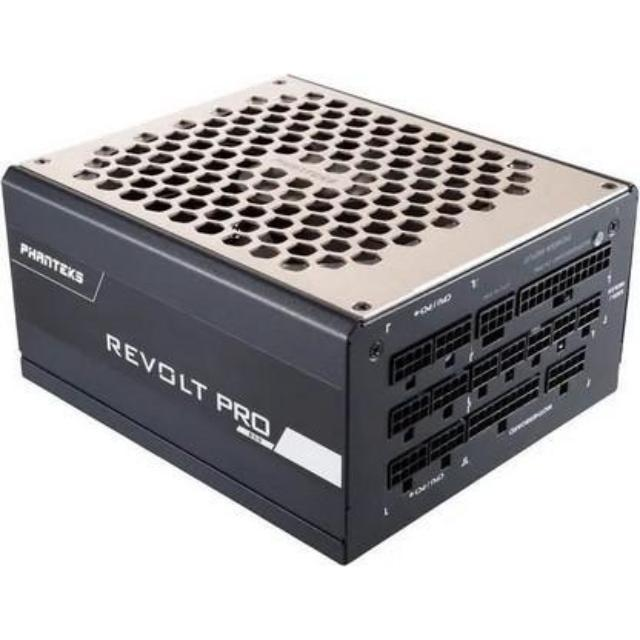PSU: (0, 61, 640, 570)
